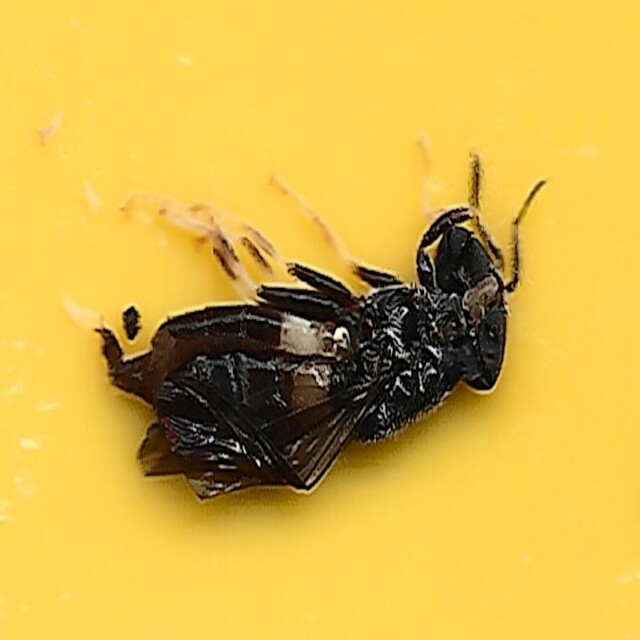Hymenoptera: (89, 144, 551, 496)
